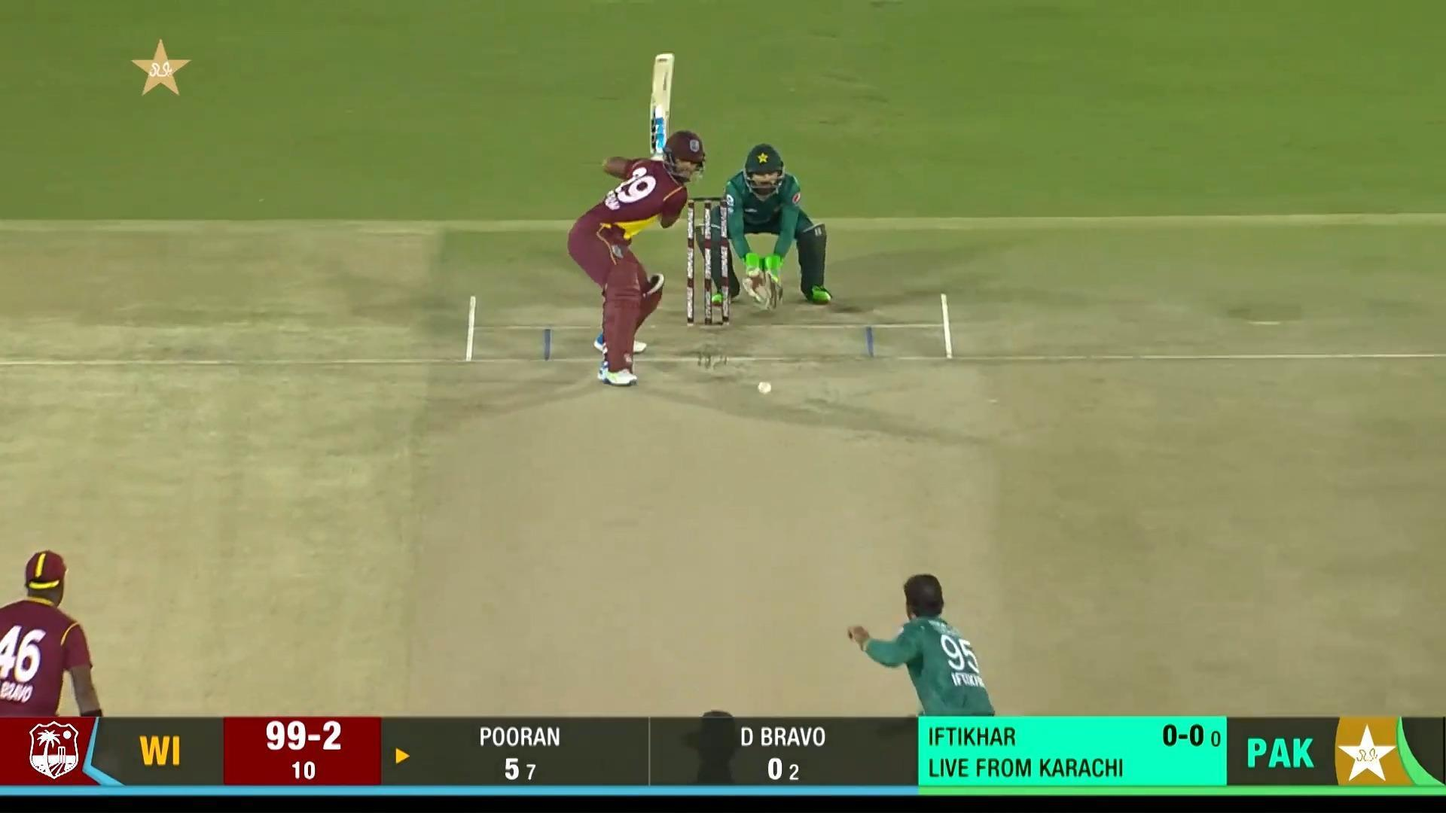BM 1: (567, 52, 707, 388)
BO: (848, 571, 997, 718)
